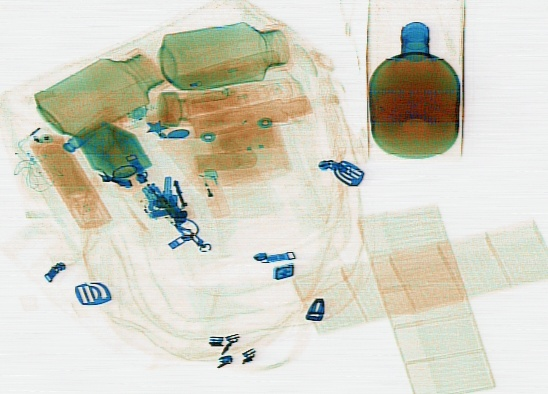lighter: (194, 165, 230, 219)
